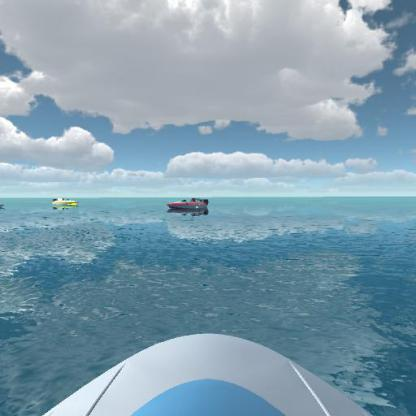usv2: (50, 191, 82, 212)
usv3: (163, 193, 217, 216)
